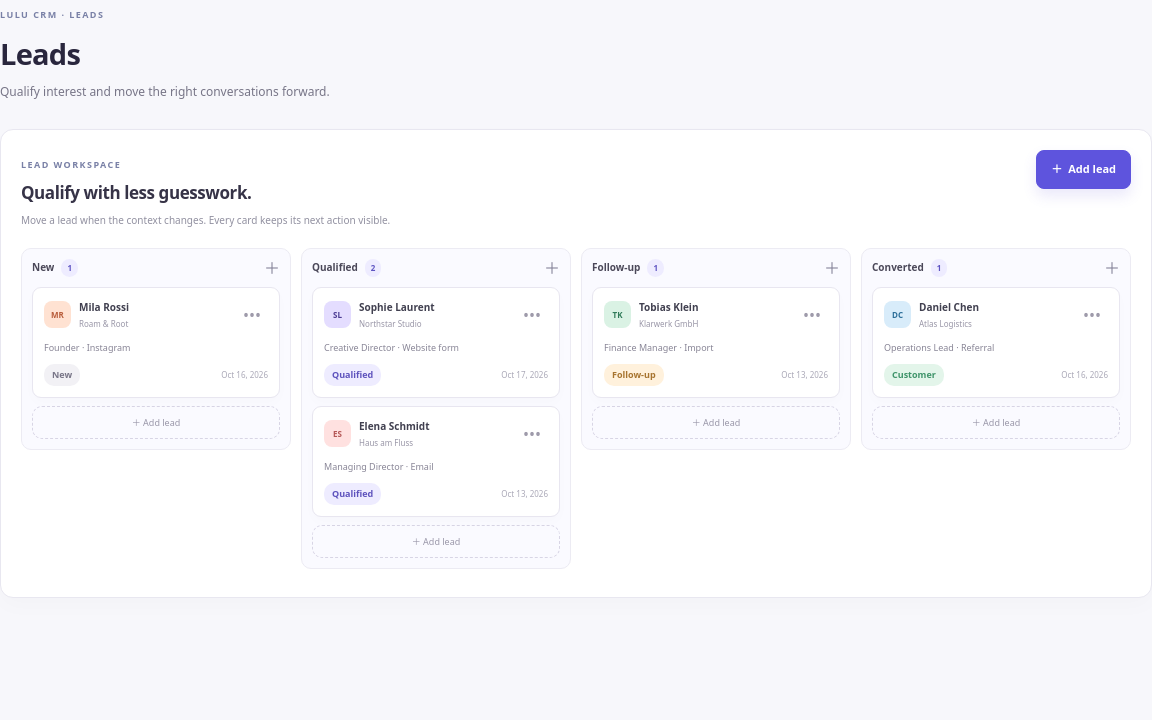
Scenario: Leads page › adds a lead straight into the column it was started from
The width and height of the screenshot is (1152, 720).
Check: the button "Mila Rossi" is shown, box top-left (79, 300), bottom-right (228, 315)
Click the button named "Add lead to Follow-up".
click(832, 268)  # box top-left (824, 260), bottom-right (840, 276)
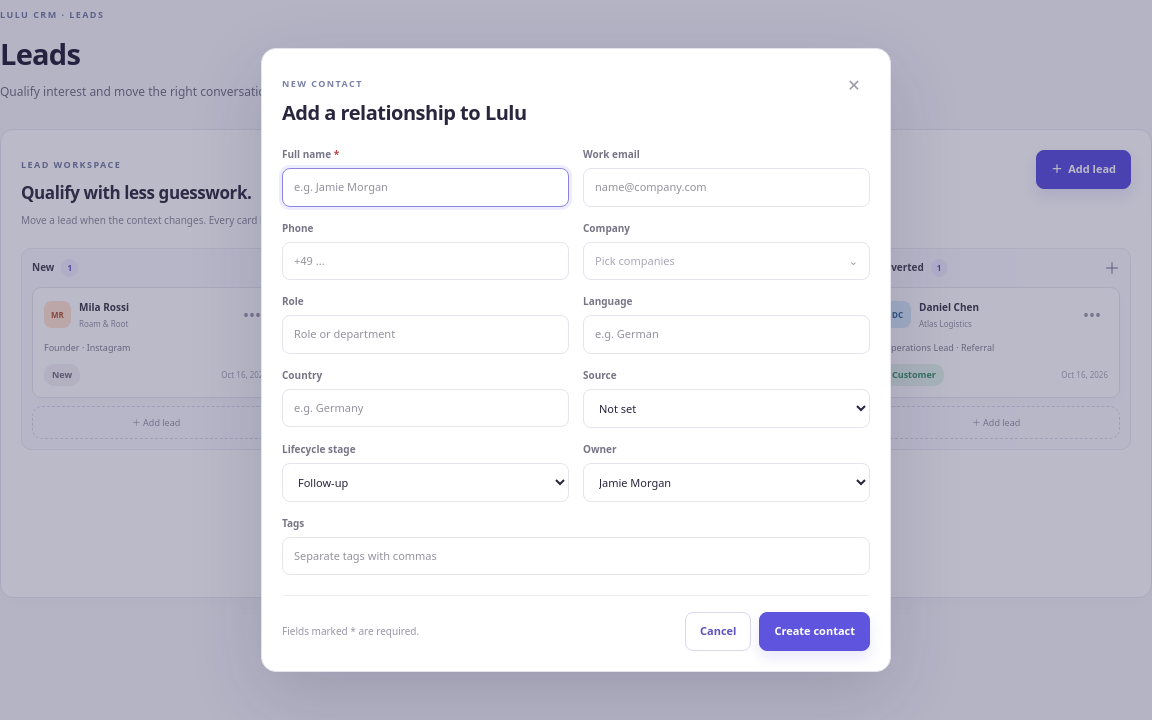
Check: the dropdown labelled "Lifecycle stage" shows "Follow-up", box top-left (282, 463), bottom-right (569, 502)
Type "Ada Lovelace" into the field labelled "Full name *".
click(426, 188); type("Ada Lovelace")  # box top-left (282, 168), bottom-right (569, 207)
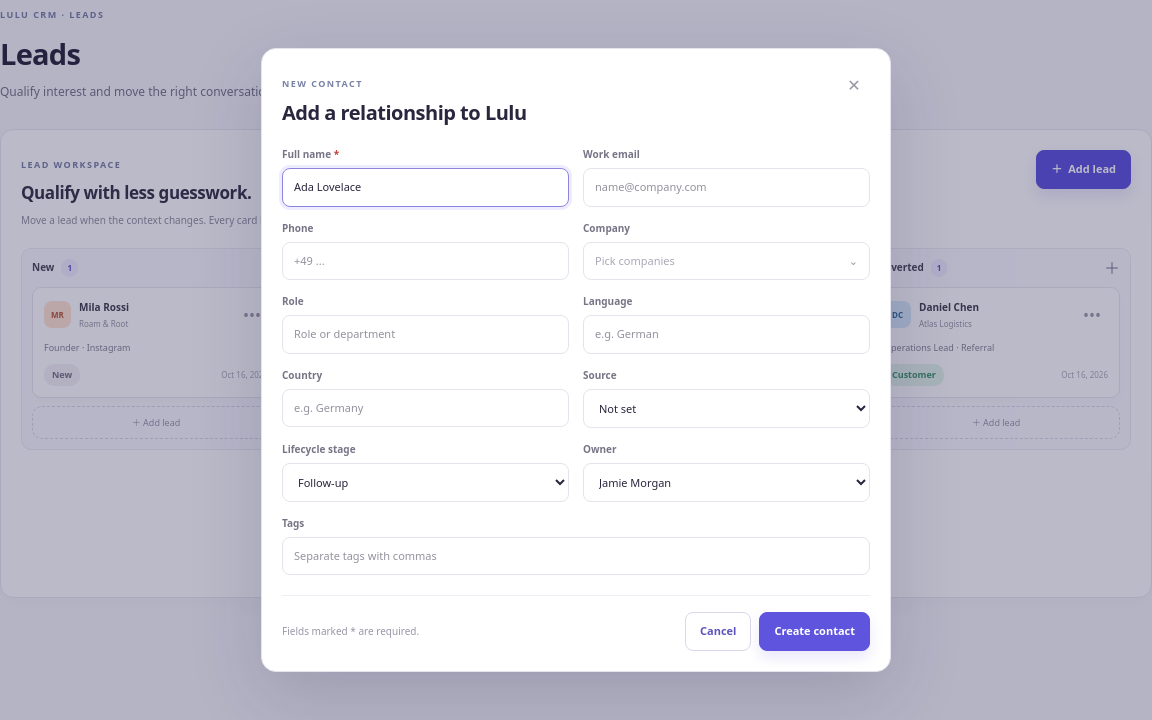
Click the button "Create contact".
click(815, 632)  # box top-left (759, 612), bottom-right (870, 651)
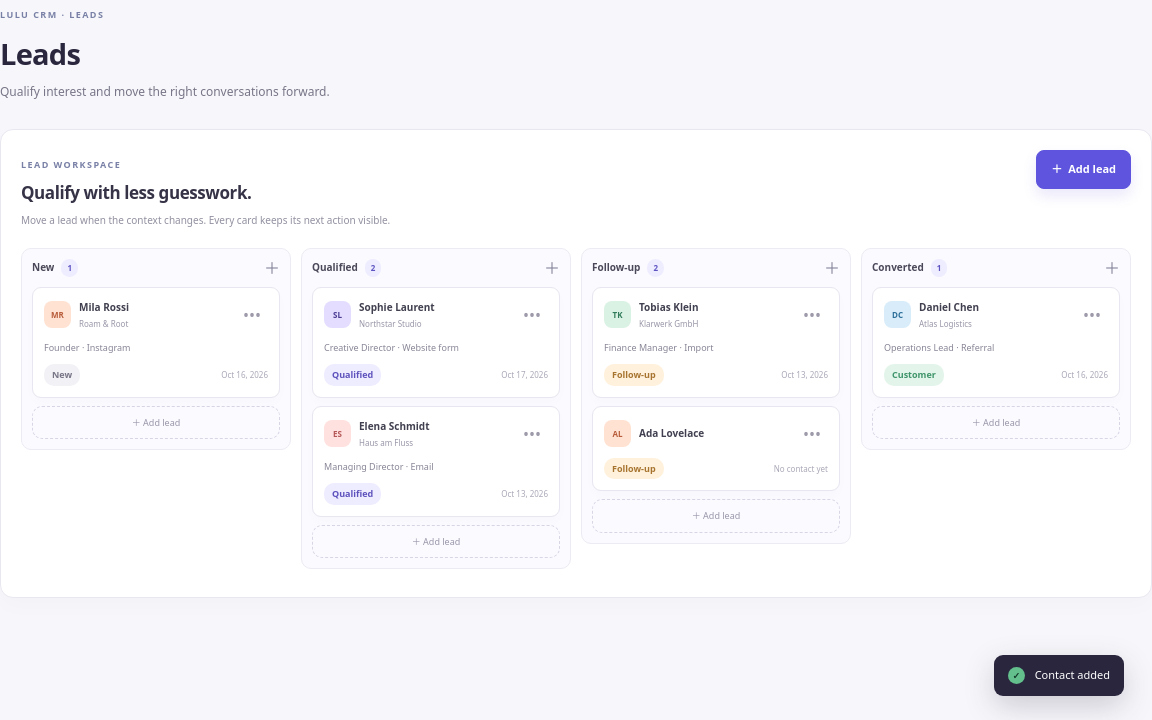
Check: the button "Ada Lovelace" is shown, box top-left (639, 426), bottom-right (788, 441)
